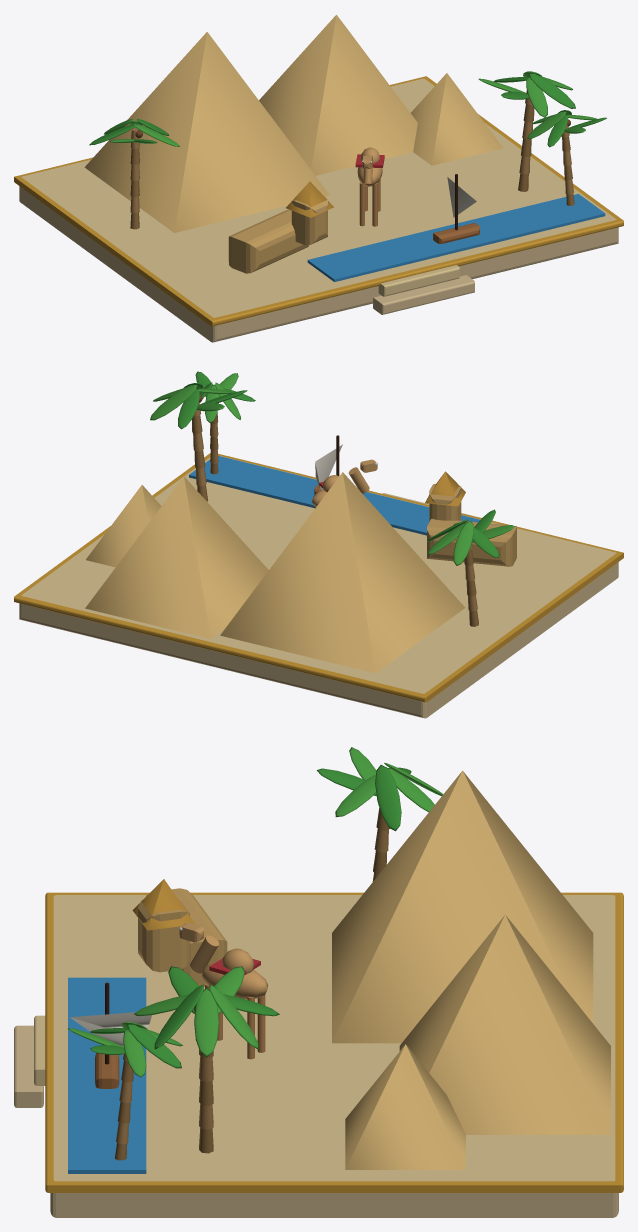
Rendered from pyramids.glb.
3 views of the same model, one above another, from view 1: azimuth 30°, elevation 25°; view 2: azimuth 150°, elevation 25°; view 3: azimuth 270°, elevation 25° (orthographic). The views are drawn at different scales.
Parts seen in each view (by area): view 1: part_000, part_002; view 2: part_000, part_002; view 3: part_000, part_002.
Boxes of the visible parts, box(x1,y1,x2,y2) form: part_000: box(14, 15, 623, 342); part_002: box(433, 174, 479, 243); part_000: box(14, 371, 623, 718); part_002: box(314, 435, 342, 494); part_000: box(14, 747, 623, 1217); part_002: box(70, 982, 151, 1088).
Bounding box in the file's own units: 9.87 × 3.98 × 8.58.
